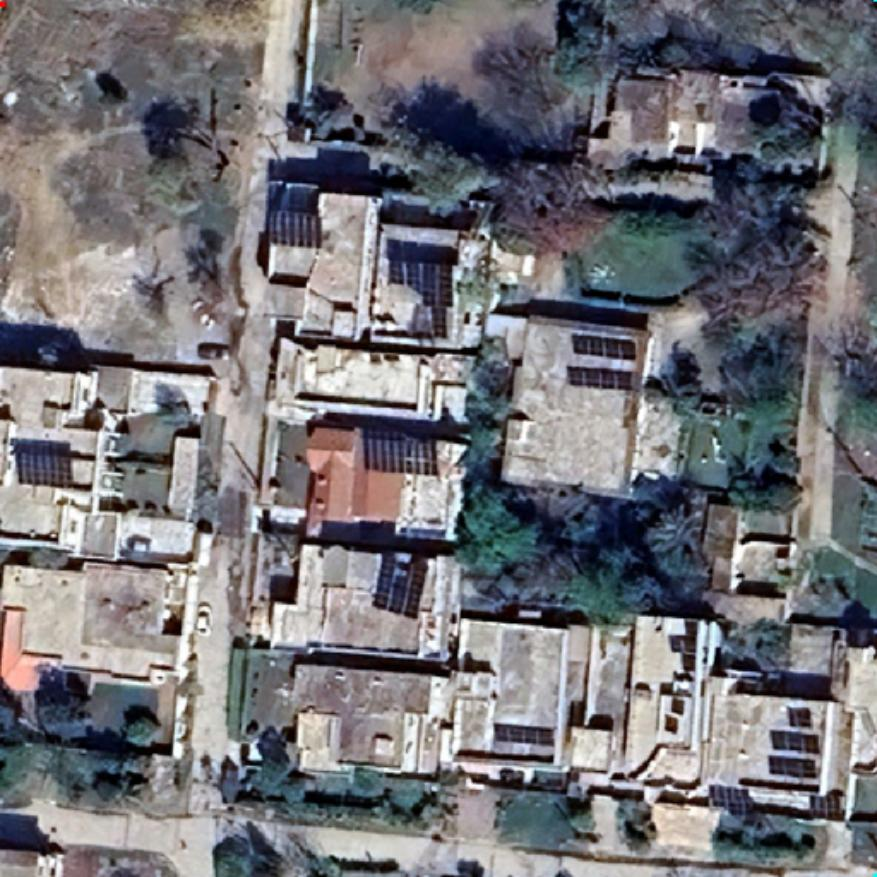Solarpanel: (384, 252, 458, 342), (356, 422, 446, 480), (368, 547, 432, 623), (11, 443, 79, 491), (264, 204, 328, 252), (562, 362, 640, 394), (566, 330, 642, 362), (487, 718, 559, 750), (704, 781, 760, 819), (764, 751, 822, 781), (767, 726, 823, 756), (804, 787, 848, 823), (784, 703, 816, 729)
